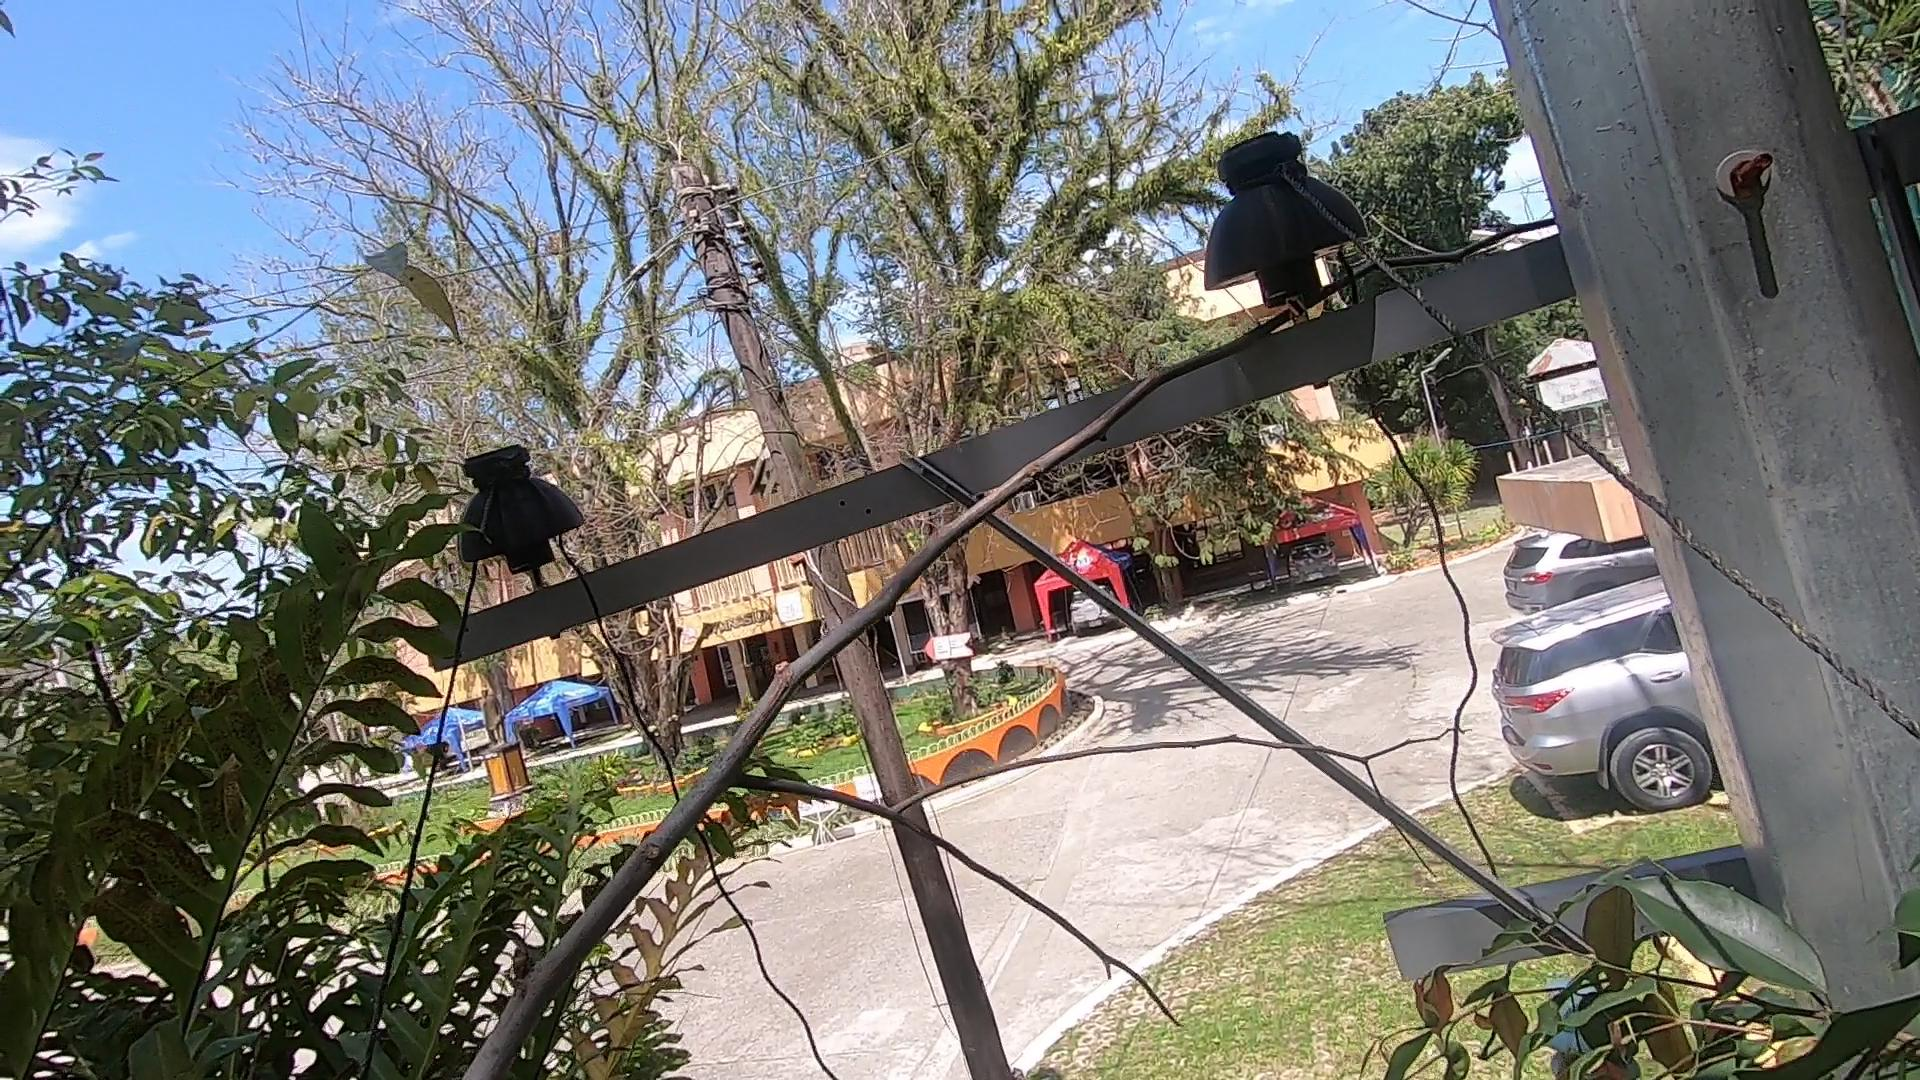branch with leaves: (1375, 866, 1919, 1080)
tree branch: (233, 218, 1704, 1080)
